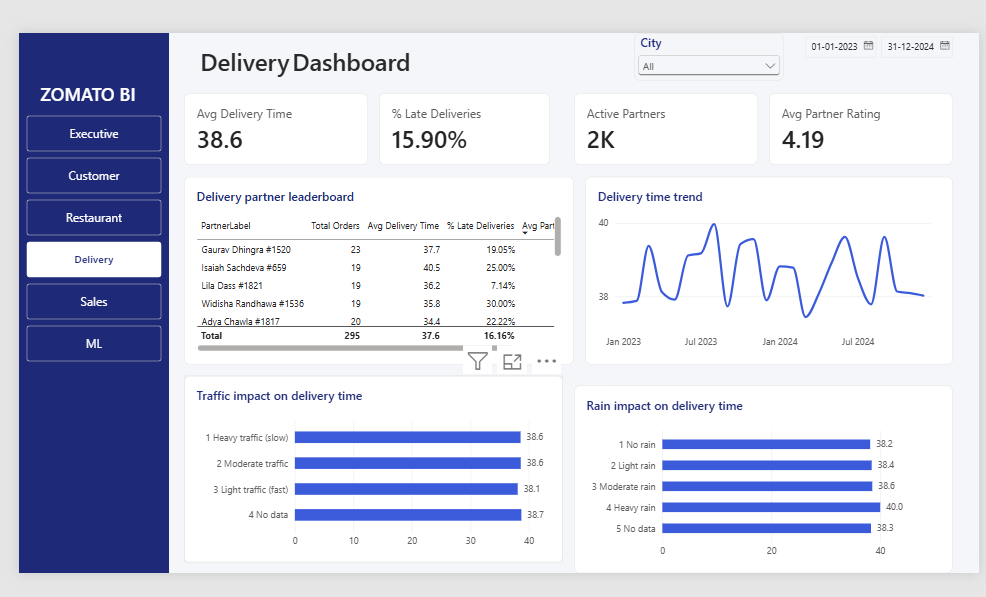

The dashboard page shown, as its layout file describes it:
{"tool":"powerbi","page":{"name":"Delivery","canvas":[1280,720],"ordinal":3},"visuals":[{"type":"slicer","fields":{"Values":["DateTable.Date"]},"box":[1040,0,220,63.3],"z":0},{"type":"slicer","fields":{"Values":["cities.City"]},"box":[820,0,200,63.8],"z":1000},{"type":"clusteredBarChart","fields":{"Category":["cities.City"],"Y":["orders.Total Orders"]},"box":[45.7,871.4,575.7,208.6],"z":2000},{"type":"shape","box":[0,0,200,720],"z":3000},{"type":"textbox","box":[8.3,45,183.3,73.3],"z":4000},{"type":"textbox","box":[241.7,16.7,328.3,46.7],"z":5000},{"type":"pageNavigator","box":[10,110,180,330],"z":6000},{"type":"cardVisual","fields":{"Data":["cities.Avg Delivery Time"]},"box":[220,80,245,96],"z":7000},{"type":"cardVisual","fields":{"Data":["orders.% Late Deliveries"]},"box":[480,80,228,96],"z":8000},{"type":"cardVisual","fields":{"Data":["orders.Active Partners"]},"box":[740,80,245,96],"z":9000},{"type":"cardVisual","fields":{"Data":["orders.Avg Partner Rating"]},"box":[1000,80,245,96],"z":10000},{"type":"tableEx","title":"Delivery partner leaderboard","fields":{"Values":["delivery_partners.PartnerLabel","orders.Total Orders","cities.Avg Delivery Time","orders.% Late Deliveries","orders.Avg Partner Rating"]},"box":[220,192,520,250],"z":11000},{"type":"lineChart","title":"Delivery time trend","fields":{"Category":["DateTable.MonthStart"],"Y":["cities.Avg Delivery Time"]},"box":[755,192,490,250],"z":12000},{"type":"clusteredBarChart","title":"Traffic impact on delivery time","fields":{"Category":["orders_weather_traffic.TrafficBand"],"Y":["cities.Avg Delivery Time"]},"box":[220,456,505,250],"z":13000},{"type":"clusteredBarChart","title":"Rain impact on delivery time","fields":{"Category":["orders_weather_traffic.RainBand"],"Y":["cities.Avg Delivery Time"]},"box":[740,470,505,250],"z":14000}]}

Visuals, with their boxes on the page's 1280x720 design canvas (x1, y1, x2, y2). These are canvas units, not pixel positions in the 986x597 screenshot, which may show the page scaled, cropped or inside an application window:
slicer - DateTable.Date: Rect(1040, 0, 1260, 63)
slicer - cities.City: Rect(820, 0, 1020, 64)
clusteredBarChart - cities.City x orders.Total Orders: Rect(46, 871, 621, 1080)
shape: Rect(0, 0, 200, 720)
textbox: Rect(8, 45, 192, 118)
textbox: Rect(242, 17, 570, 63)
pageNavigator: Rect(10, 110, 190, 440)
cardVisual - cities.Avg Delivery Time: Rect(220, 80, 465, 176)
cardVisual - orders.% Late Deliveries: Rect(480, 80, 708, 176)
cardVisual - orders.Active Partners: Rect(740, 80, 985, 176)
cardVisual - orders.Avg Partner Rating: Rect(1000, 80, 1245, 176)
"Delivery partner leaderboard" tableEx: Rect(220, 192, 740, 442)
"Delivery time trend" lineChart: Rect(755, 192, 1245, 442)
"Traffic impact on delivery time" clusteredBarChart: Rect(220, 456, 725, 706)
"Rain impact on delivery time" clusteredBarChart: Rect(740, 470, 1245, 720)
